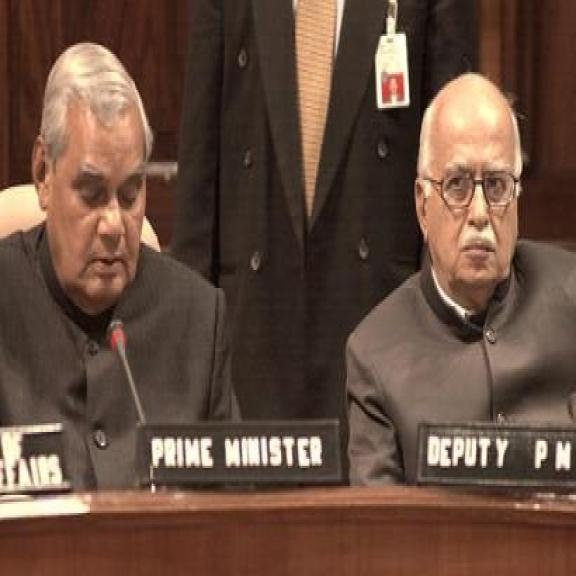face: (31, 108, 147, 313), (407, 103, 525, 294)
